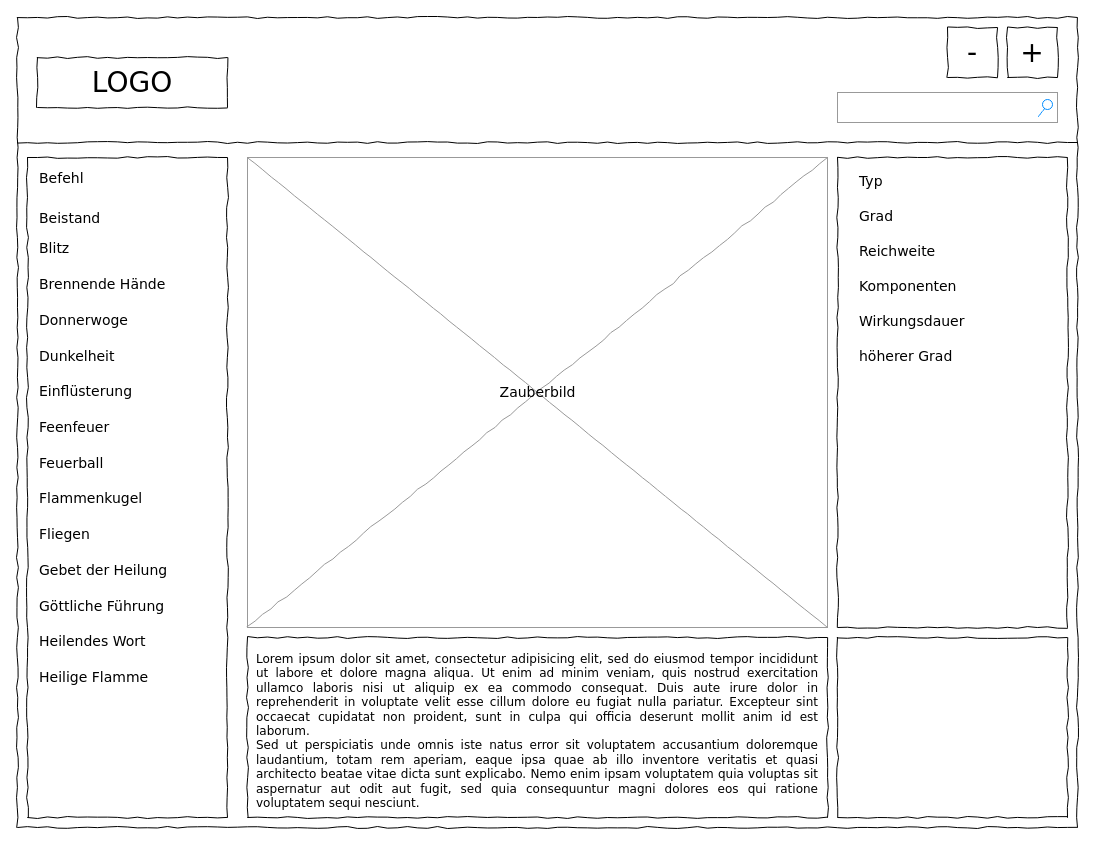
Some shapes in this 1095 by 845 pixel diagram are drawn without their labels. The shapes that lost their labels are listed below. From the top down, each one's box as (x1, y1, x2, y2) in pixels, then its label:
(836, 92, 1058, 122): Suche
(836, 636, 1068, 818): External Links
